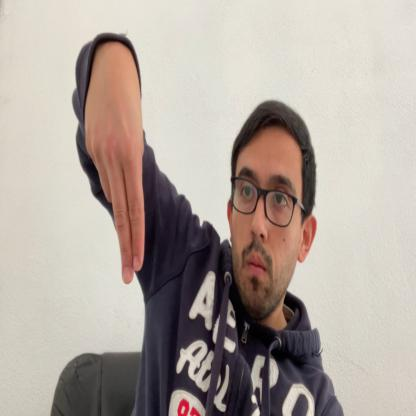N: (84, 63, 145, 285)
